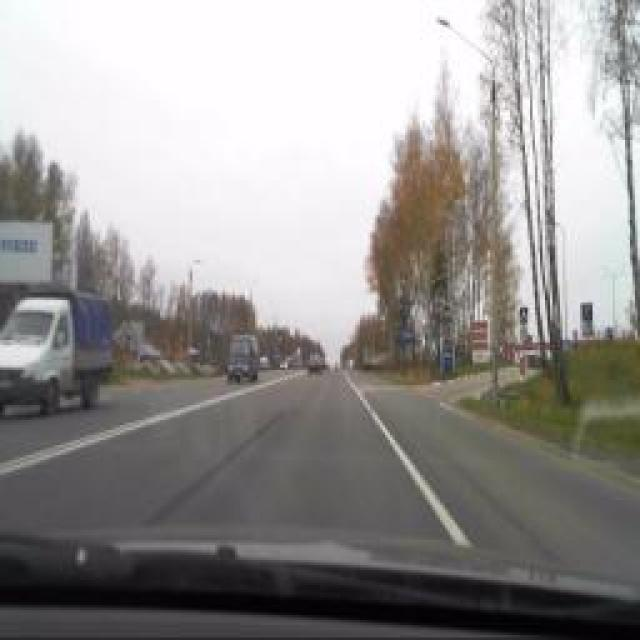sign: (519, 326, 529, 344)
